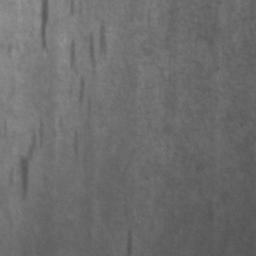Inclusion: (19, 156, 29, 196), (41, 0, 49, 47)
